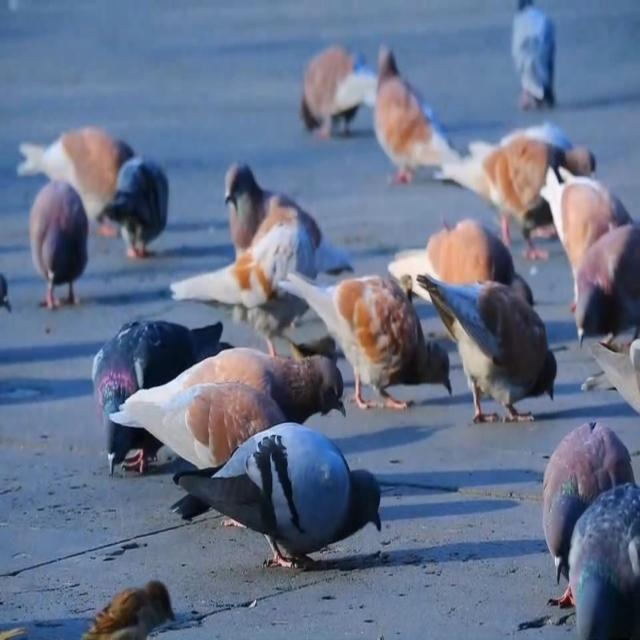bird: (118, 328, 350, 493), (285, 252, 460, 448), (168, 439, 392, 571), (423, 260, 563, 435), (441, 118, 596, 276), (86, 308, 230, 476), (215, 140, 348, 313), (392, 227, 548, 343), (179, 230, 351, 331), (371, 32, 466, 200), (539, 399, 631, 571), (542, 150, 640, 295), (496, 101, 604, 229), (20, 124, 136, 240), (564, 467, 640, 640), (298, 28, 382, 171), (24, 170, 96, 328), (568, 214, 640, 351), (104, 140, 177, 264), (503, 0, 578, 110), (95, 576, 178, 640), (286, 316, 342, 389), (0, 220, 21, 351)
